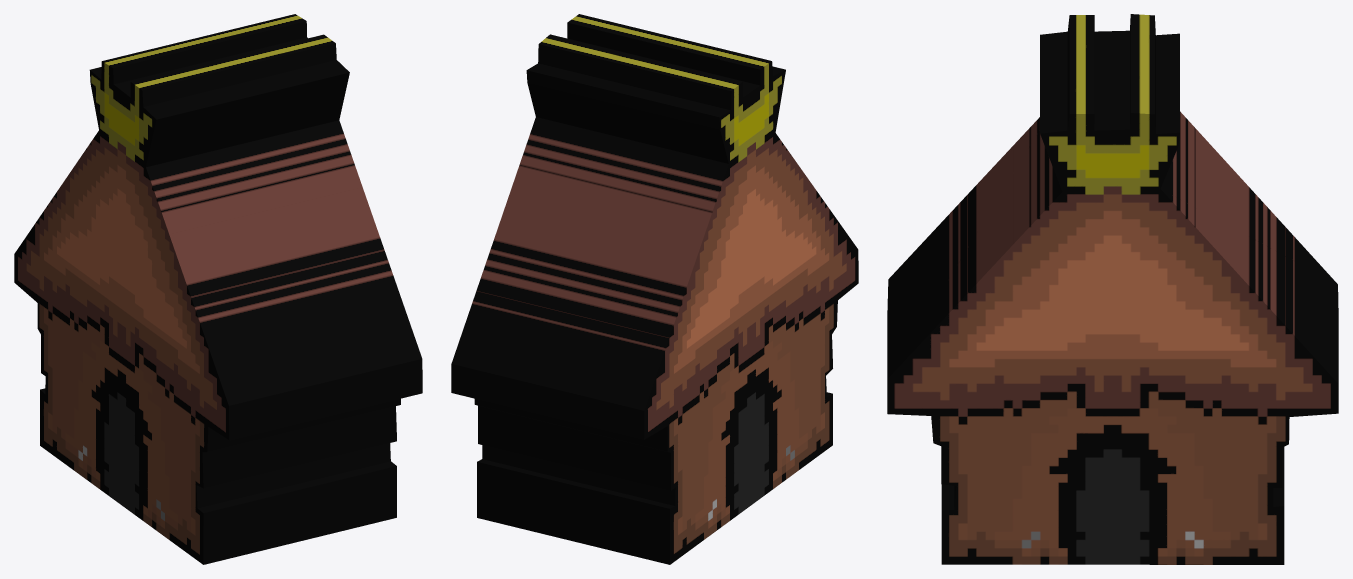
3 renders of one model, left to right at view 1: azimuth 30°, elevation 25°; view 2: azimuth 150°, elevation 25°; view 3: azimuth 270°, elevation 25°, orthographic. The views are drawn at different scales.
Visible parts, largest first — view 1: Hut.aseprite - Aseprite v1.3.15.4 10_10_2025 10_56_34 PM.001; view 2: Hut.aseprite - Aseprite v1.3.15.4 10_10_2025 10_56_34 PM.001; view 3: Hut.aseprite - Aseprite v1.3.15.4 10_10_2025 10_56_34 PM.001.
Boxes of the visible parts, x1=… form: Hut.aseprite - Aseprite v1.3.15.4 10_10_2025 10_56_34 PM.001: x1=14, y1=14, x2=422, y2=564; Hut.aseprite - Aseprite v1.3.15.4 10_10_2025 10_56_34 PM.001: x1=451, y1=14, x2=858, y2=564; Hut.aseprite - Aseprite v1.3.15.4 10_10_2025 10_56_34 PM.001: x1=887, y1=14, x2=1338, y2=564.
Size of the model in its own units: 40 by 85.19 by 77.08.
